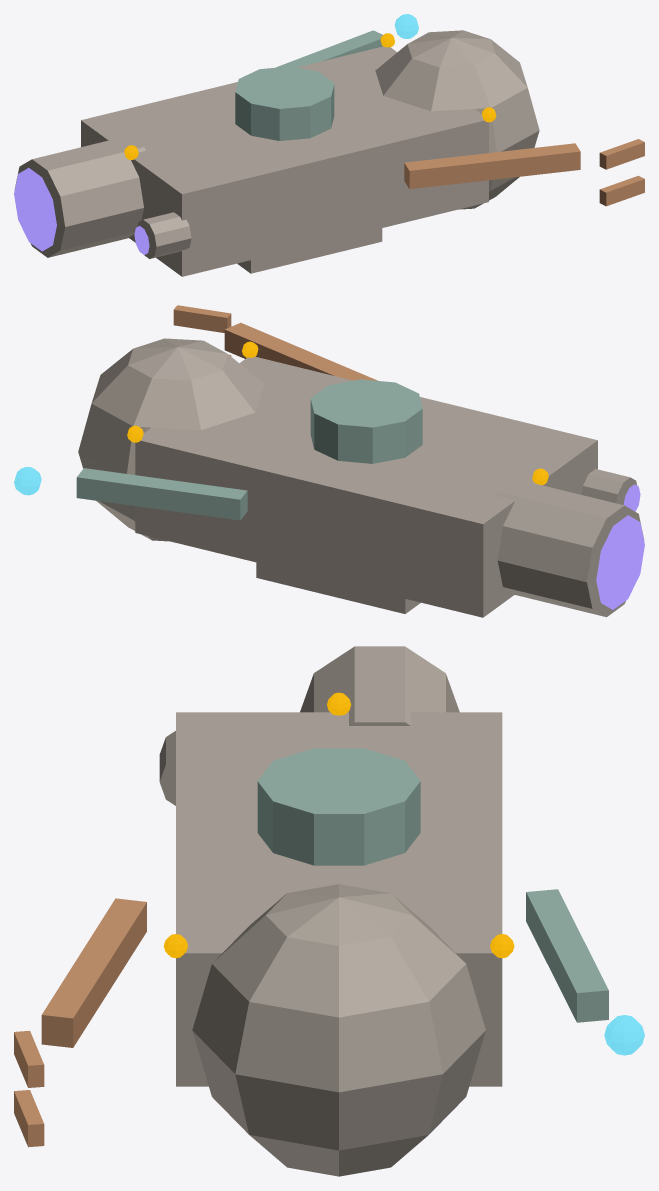
Rendered from salvager_frigate.glb.
3 renders of one model, top to bottom at view 1: azimuth 30°, elevation 25°; view 2: azimuth 150°, elevation 25°; view 3: azimuth 270°, elevation 25°, orthographic. The views are drawn at different scales.
Parts seen in each view (by area): view 1: Hull, Nose, Eng, Processor, ClawArm, Glow, Cargo, Thruster, TorchArm, Prong0.04, Prong-0.04, TorchTip; view 2: Hull, Nose, Eng, Processor, TorchArm, Glow, ClawArm, Cargo, Thruster, Prong0.04, TorchTip; view 3: Nose, Hull, Processor, Eng, ClawArm, TorchArm, Prong0.04, Prong-0.04, TorchTip, Thruster.
Part boxes in pixels (x1,y1,x2,y2): Hull: (81, 46, 488, 276); Nose: (375, 30, 539, 209); Eng: (14, 135, 145, 257); Processor: (235, 66, 334, 140); ClawArm: (404, 143, 580, 189); Glow: (14, 168, 56, 251); Cargo: (237, 228, 382, 273); Thruster: (137, 212, 191, 258); TorchArm: (276, 30, 382, 67); Prong0.04: (599, 139, 644, 169); Prong-0.04: (599, 175, 644, 206); TorchTip: (394, 14, 418, 38); Hull: (135, 356, 597, 617); Nose: (78, 338, 263, 541); Eng: (495, 479, 644, 617); Processor: (310, 379, 422, 463); TorchArm: (76, 468, 247, 520); Glow: (596, 515, 644, 609); ClawArm: (224, 322, 377, 380); Cargo: (256, 562, 420, 613); Thruster: (581, 469, 637, 504); Prong0.04: (173, 305, 231, 332); TorchTip: (14, 467, 41, 495); Nose: (192, 884, 485, 1176); Hull: (176, 712, 502, 1086); Processor: (257, 748, 420, 865); Eng: (300, 646, 459, 725); ClawArm: (41, 898, 146, 1047); TorchArm: (526, 889, 608, 1022); Prong0.04: (14, 1030, 44, 1087); Prong-0.04: (14, 1090, 44, 1147); TorchTip: (604, 1015, 644, 1055); Thruster: (159, 731, 175, 805).
Size of the model in its own units: 1.14 by 0.36 by 0.7735.
